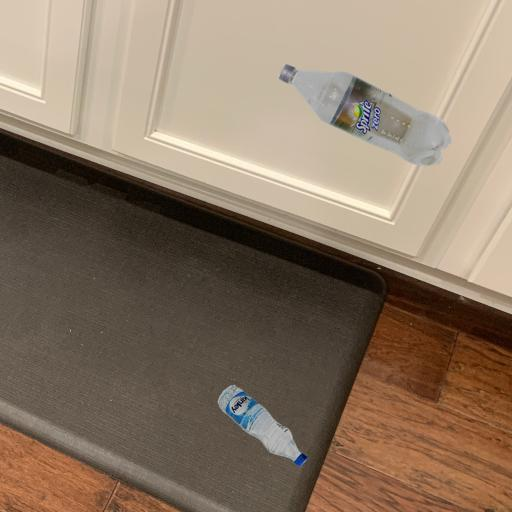bottle: (207, 376, 312, 473), (337, 114, 386, 115)
